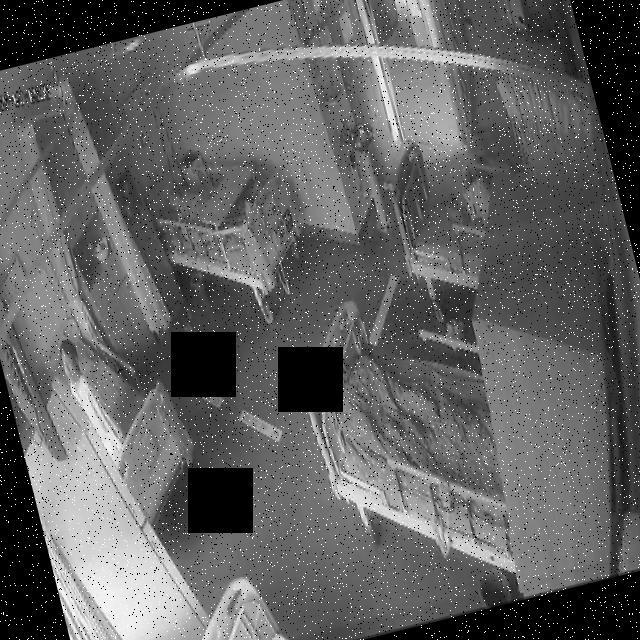bed: (283, 274, 523, 576), (138, 117, 332, 337), (47, 316, 211, 542), (376, 126, 512, 304)
patient: (51, 335, 133, 477)
